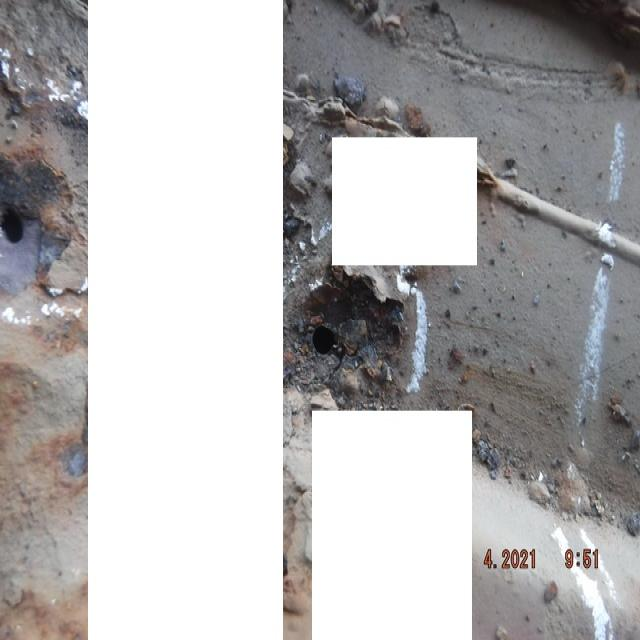hole: (296, 274, 404, 393), (1, 158, 78, 297)
